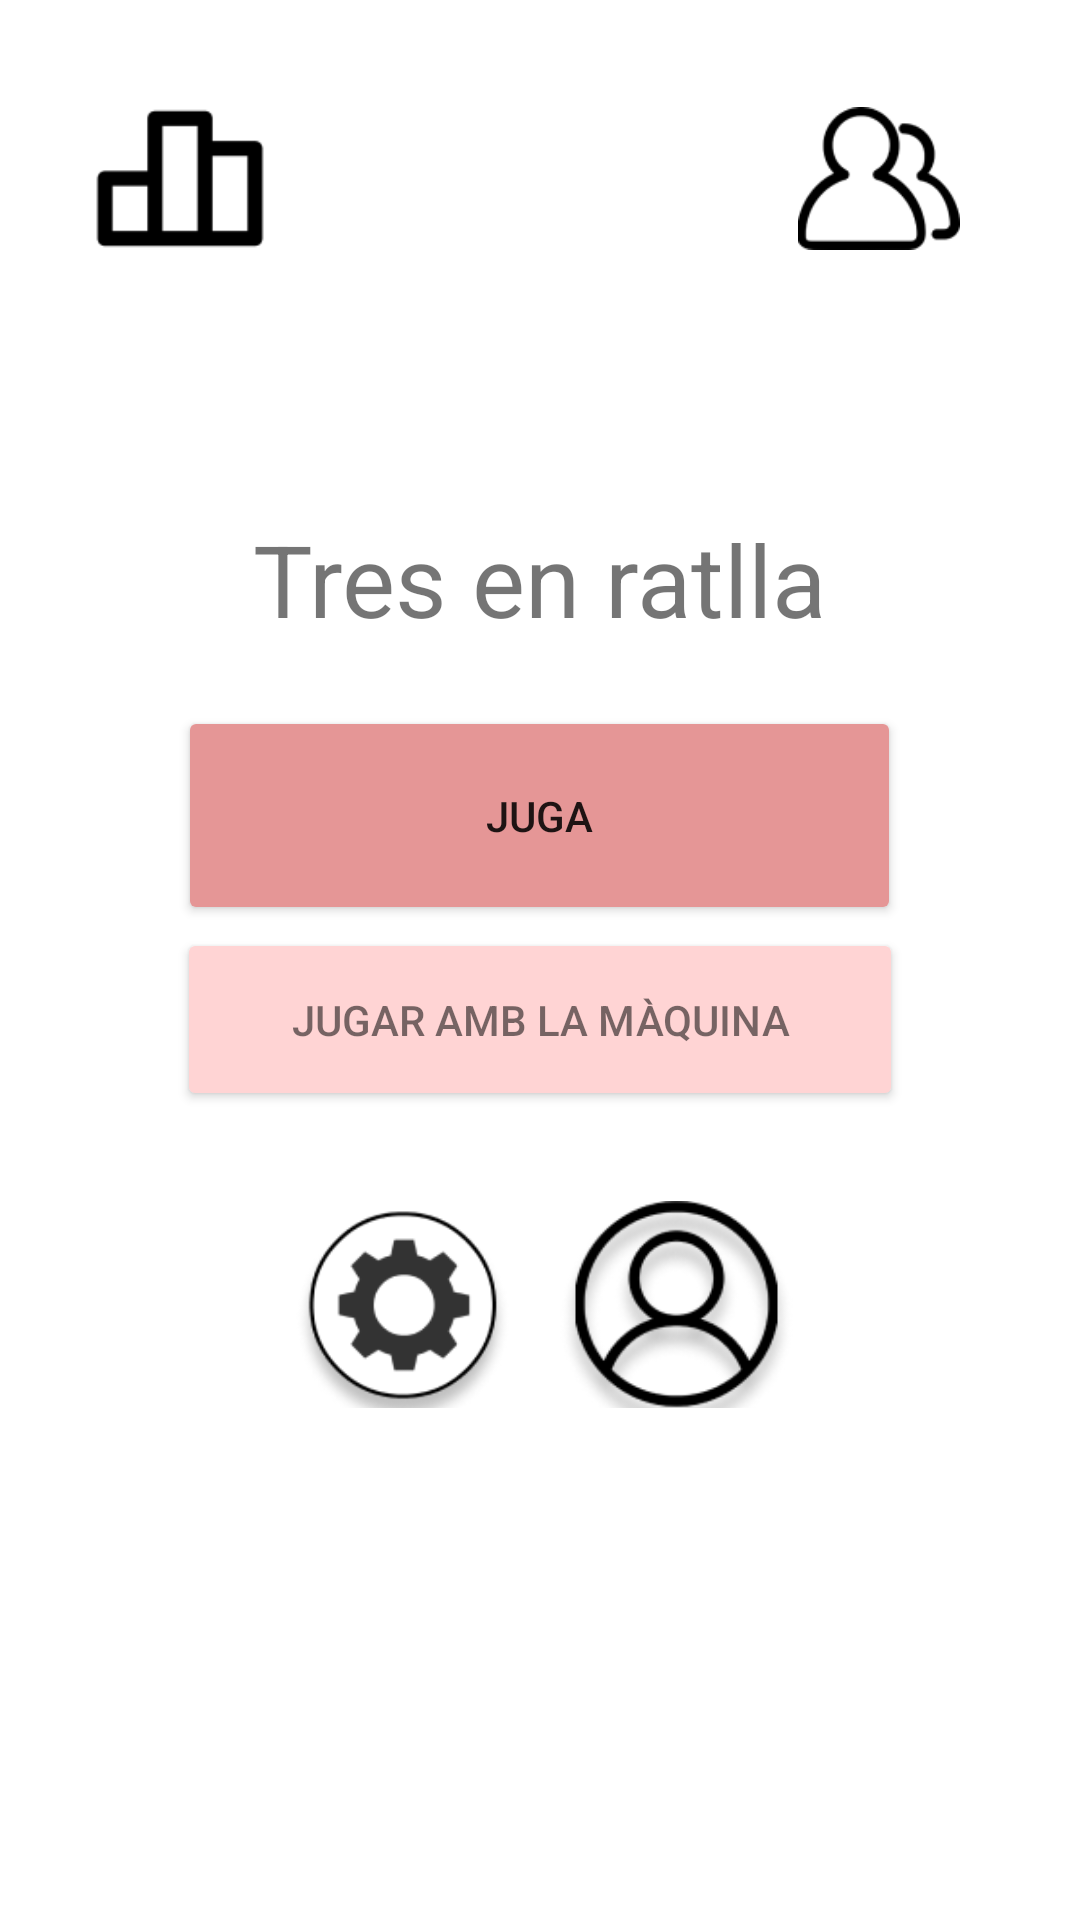

Named icons in this screenshot (1080px×1920px) and their bounding boxes, BBox(x1, y1, x2, y2):
amics: BBox(798, 107, 960, 250)
ranking: BBox(96, 110, 264, 247)
